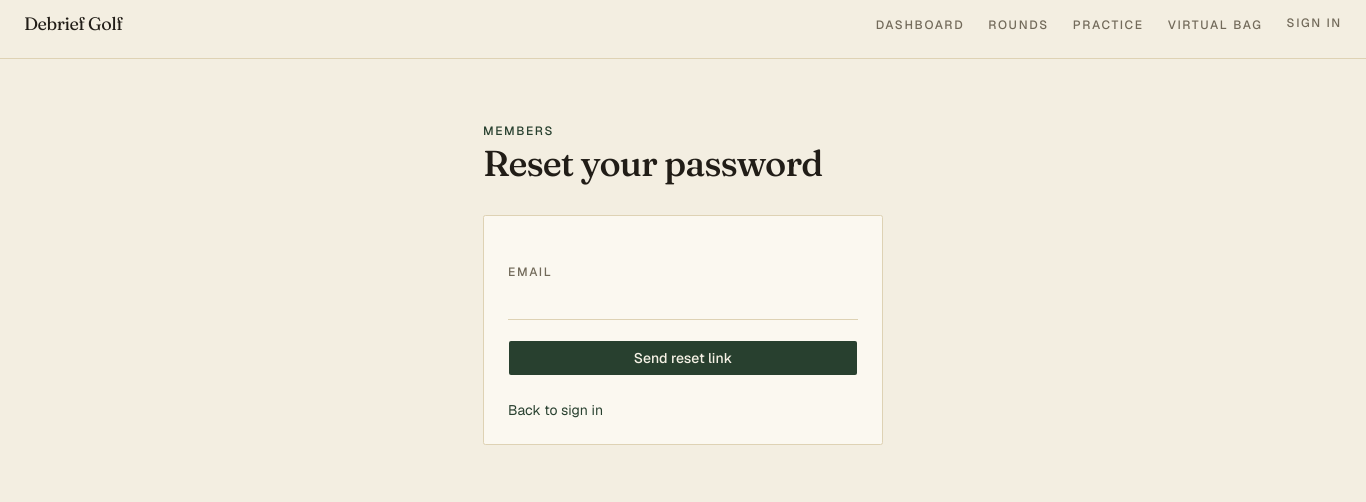
ForgotPasswordPage › surfaces the API's message on a handled failure
This screenshot has width=1366, height=502.
In the field labelled "Email": (683, 302) x1=508 y1=284 x2=858 y2=320, type "jane@example.com"
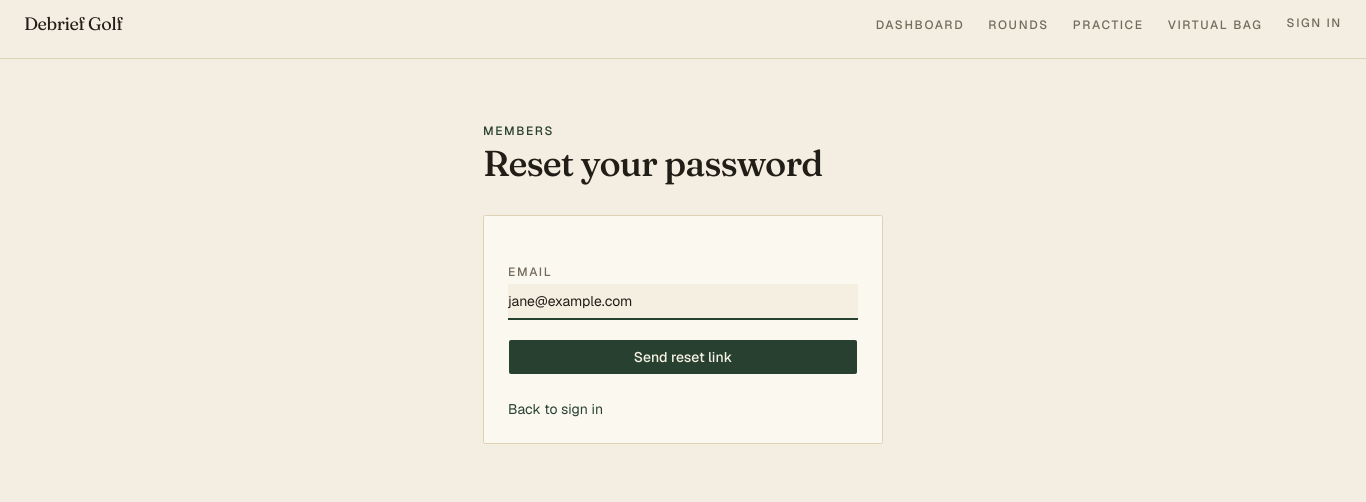
Click the button "Send reset link": (683, 357) x1=508 y1=339 x2=858 y2=375
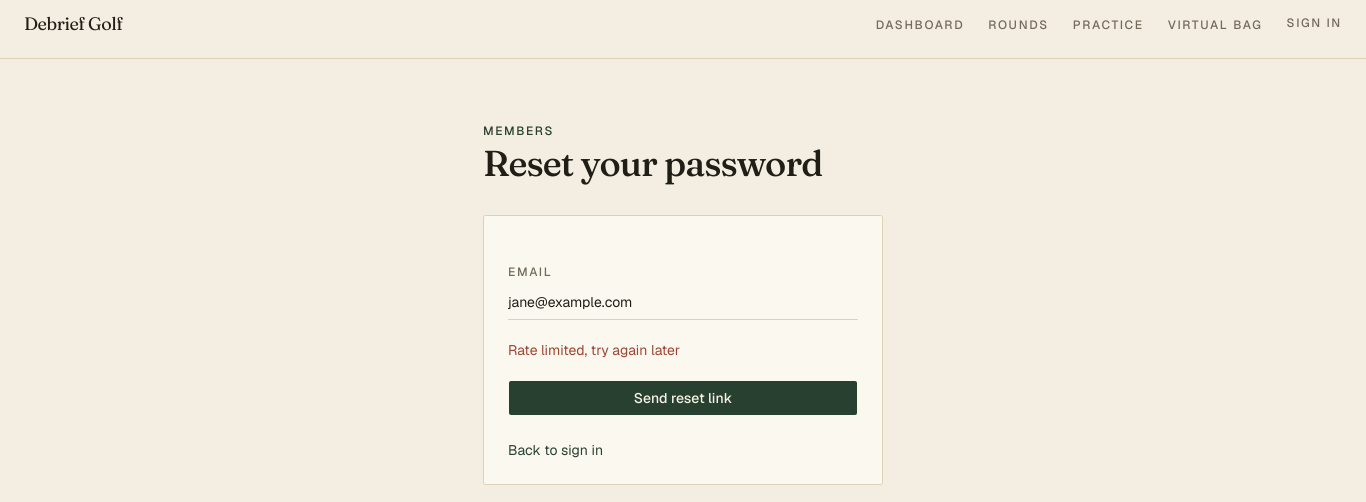
Expected: the message reads "Rate limited, try again later", x1=508 y1=341 x2=680 y2=359
